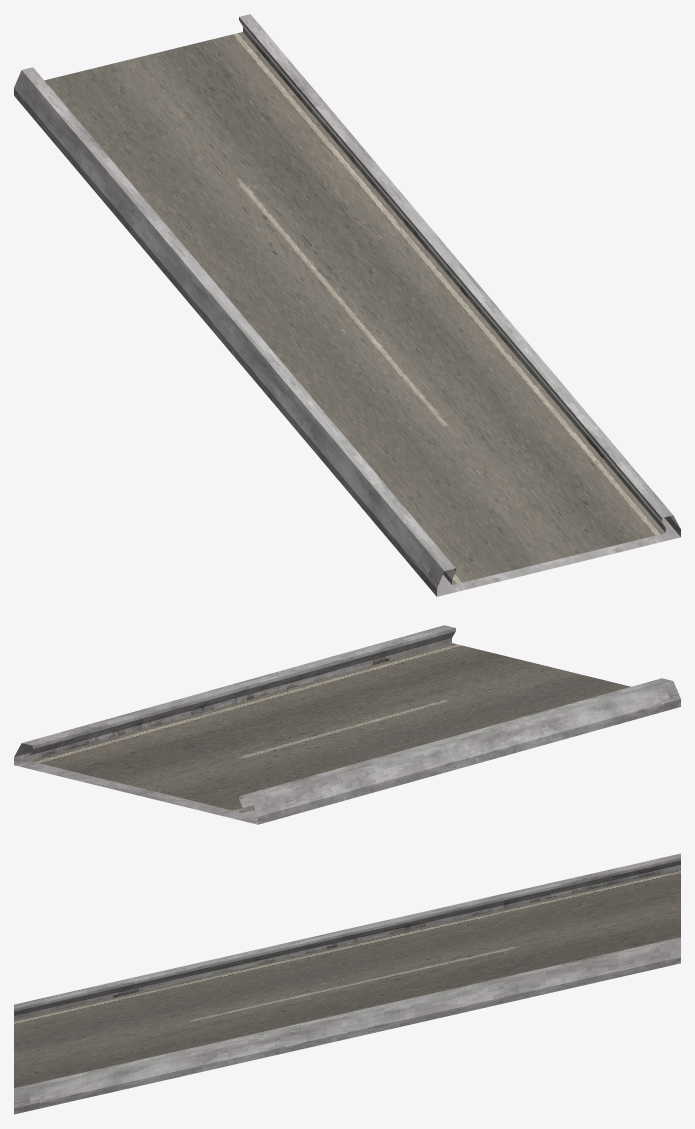
The model's file is straight3.glb.
The picture shows the model from 3 angles, top to bottom: view 1: azimuth 30°, elevation 25°; view 2: azimuth 150°, elevation 25°; view 3: azimuth 270°, elevation 25°; orthographic projection. The views are drawn at different scales.
Visible parts, largest first — view 1: road-Straight-BiSlopeUp-BiSlopeUp-Up3-Center-Size3; view 2: road-Straight-BiSlopeUp-BiSlopeUp-Up3-Center-Size3; view 3: road-Straight-BiSlopeUp-BiSlopeUp-Up3-Center-Size3.
Boxes of the visible parts, box(x1,y1,x2,y2) form: road-Straight-BiSlopeUp-BiSlopeUp-Up3-Center-Size3: box(14, 14, 680, 596); road-Straight-BiSlopeUp-BiSlopeUp-Up3-Center-Size3: box(14, 625, 680, 824); road-Straight-BiSlopeUp-BiSlopeUp-Up3-Center-Size3: box(14, 853, 680, 1114).
Bounding box in the file's own units: 1 × 0.8438 × 3.
Materials: 2 (2 with a texture image).
